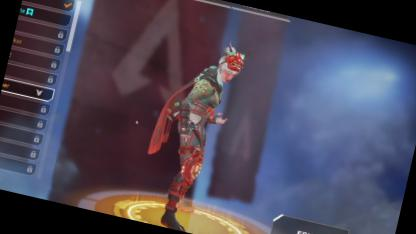Target: (146, 30, 244, 200)
